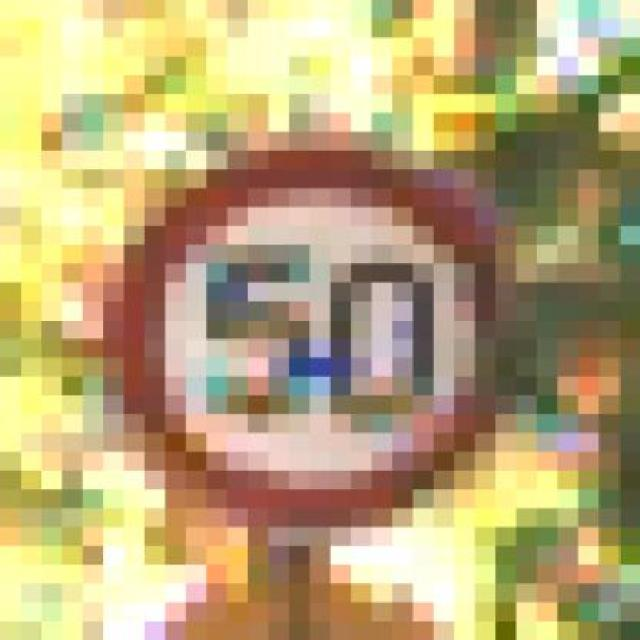50 mph speed limit: (103, 112, 537, 546)
